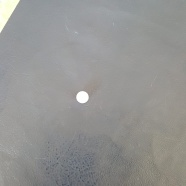Yuvarlak Buskopan: (75, 90, 89, 104)
